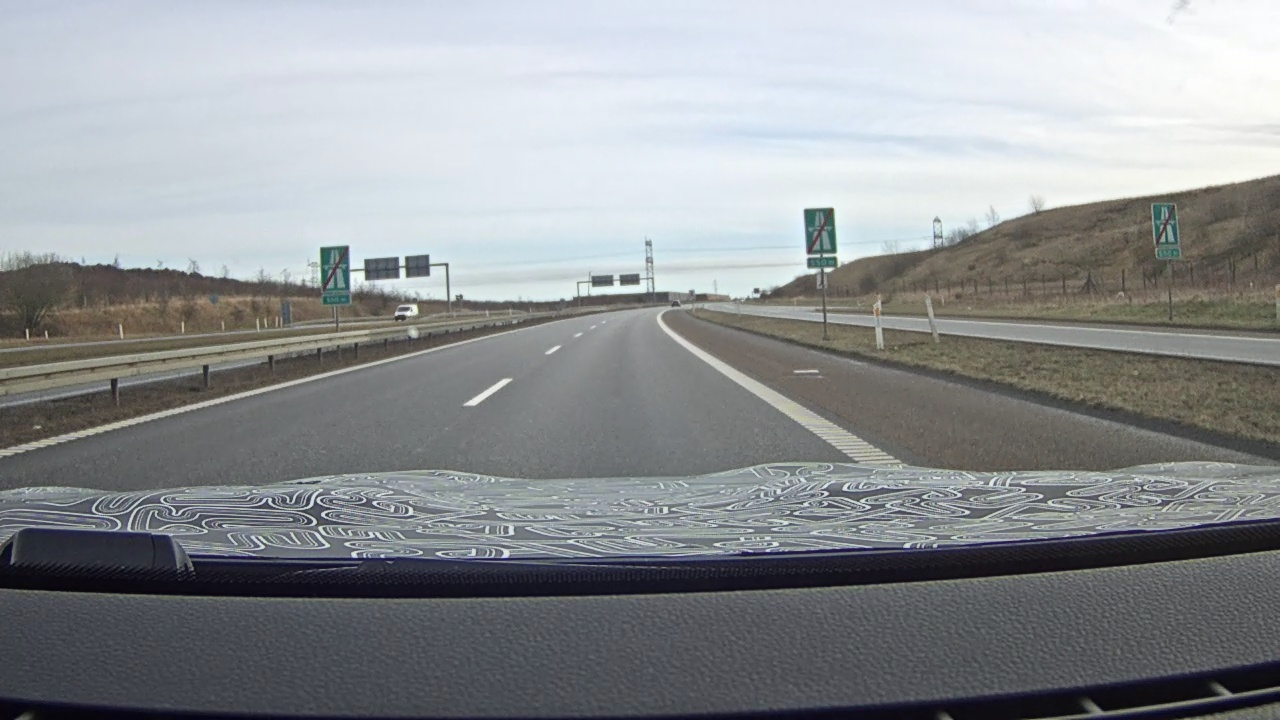Regular_End_Of_Motorway: (803, 207, 837, 254), (319, 245, 351, 293)
